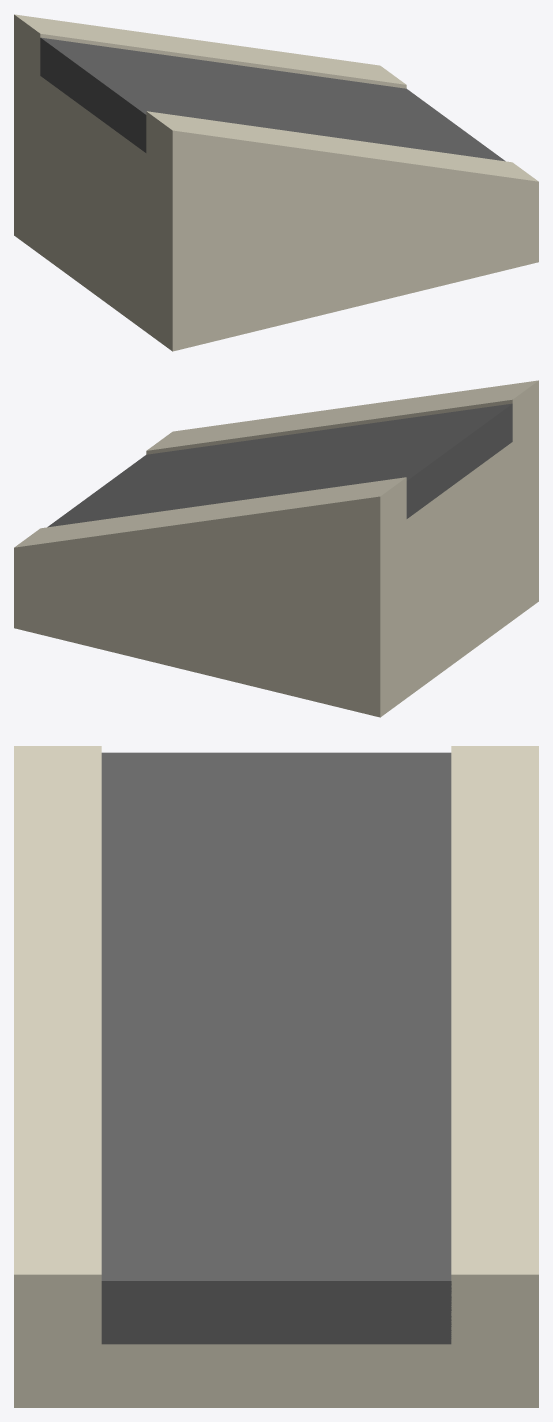
The model's file is tile127.dae.
3 renders of one model, top to bottom at view 1: azimuth 30°, elevation 25°; view 2: azimuth 150°, elevation 25°; view 3: azimuth 270°, elevation 25°, orthographic. The views are drawn at different scales.
Parts seen in each view (by area): view 1: tile127; view 2: tile127; view 3: tile127.
Boxes of the visible parts, left/top/right/bottom form: tile127: left=14, top=14, right=538, bottom=351; tile127: left=14, top=380, right=538, bottom=717; tile127: left=14, top=746, right=538, bottom=1407.
Size of the model in its own units: 1 by 0.5767 by 0.75.
